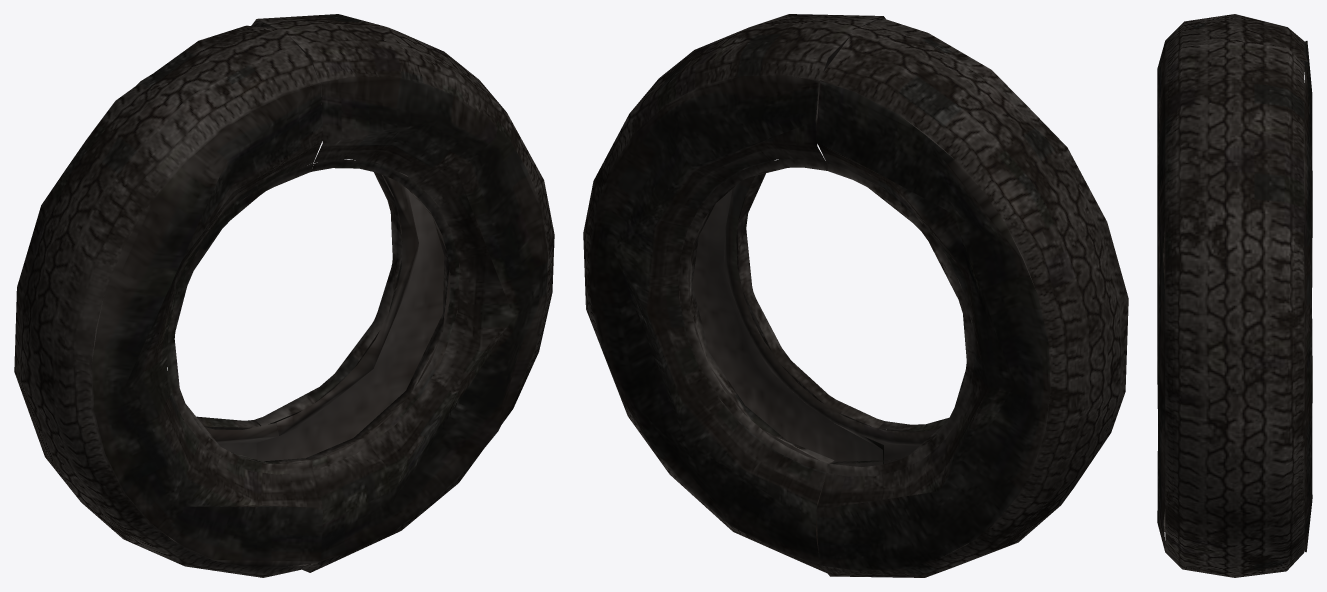
The model's file is tyre_old.glb.
The picture shows the model from 3 angles, left to right: view 1: azimuth 30°, elevation 25°; view 2: azimuth 150°, elevation 25°; view 3: azimuth 270°, elevation 25°; orthographic projection. The views are drawn at different scales.
Visible parts, largest first — view 1: tyre_old; view 2: tyre_old; view 3: tyre_old.
Boxes of the visible parts, box(x1,y1,x2,y2) form: tyre_old: box(14, 14, 554, 577); tyre_old: box(583, 14, 1128, 577); tyre_old: box(1157, 14, 1312, 577).
Size of the model in its own units: 0.6027 by 0.6066 by 0.1662.
Materials: 1 (1 with a texture image).
